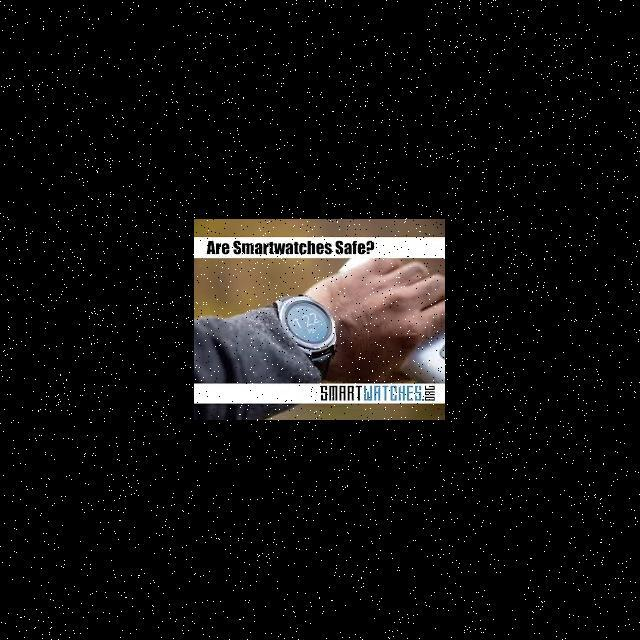watch: (268, 270, 354, 373)
